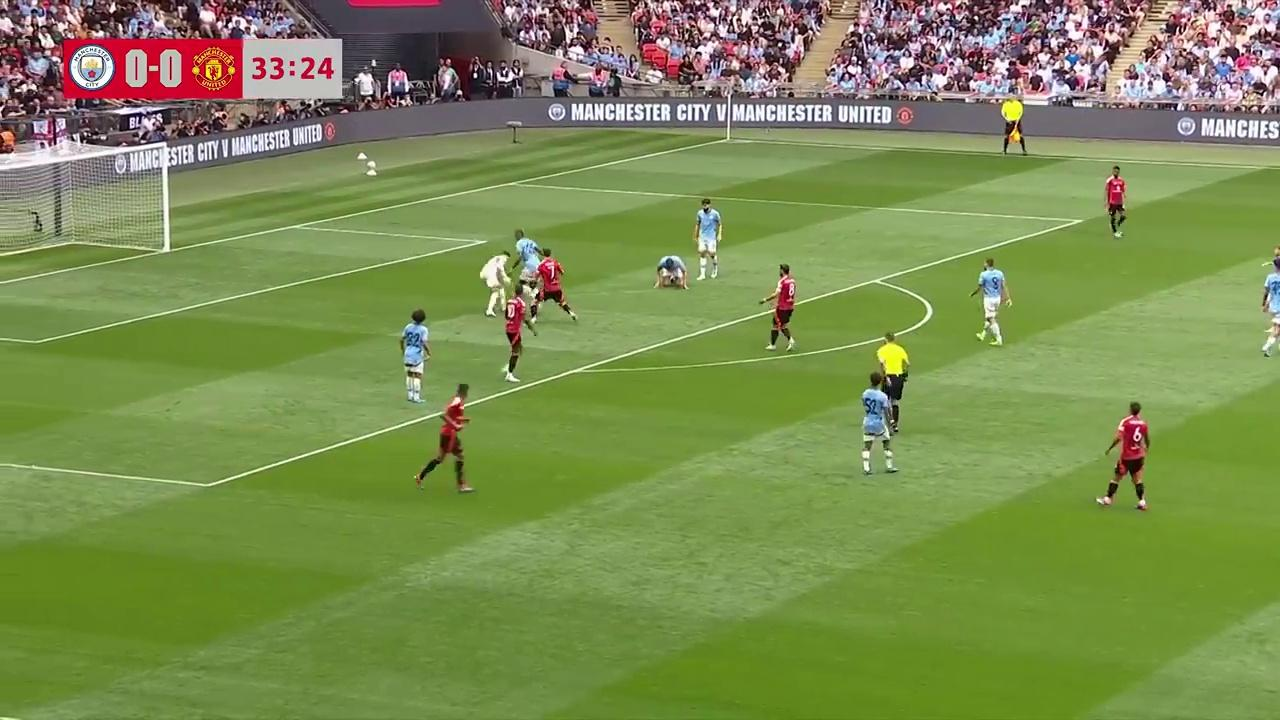player: (414, 382, 474, 493), (1095, 401, 1150, 511), (859, 372, 898, 476), (535, 247, 577, 323), (762, 263, 797, 351), (971, 263, 1007, 345), (501, 285, 531, 381), (399, 308, 430, 400), (693, 197, 722, 280), (971, 257, 1011, 314), (480, 252, 513, 316), (512, 228, 544, 293), (1260, 267, 1280, 358), (1104, 167, 1127, 238), (1260, 243, 1280, 314), (653, 252, 689, 291)
referee: (875, 333, 909, 424), (1001, 97, 1027, 157)
